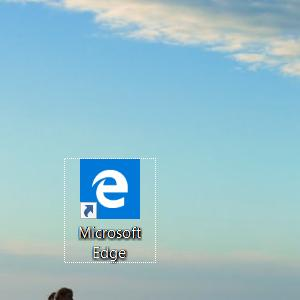edge: (80, 159, 140, 219)
